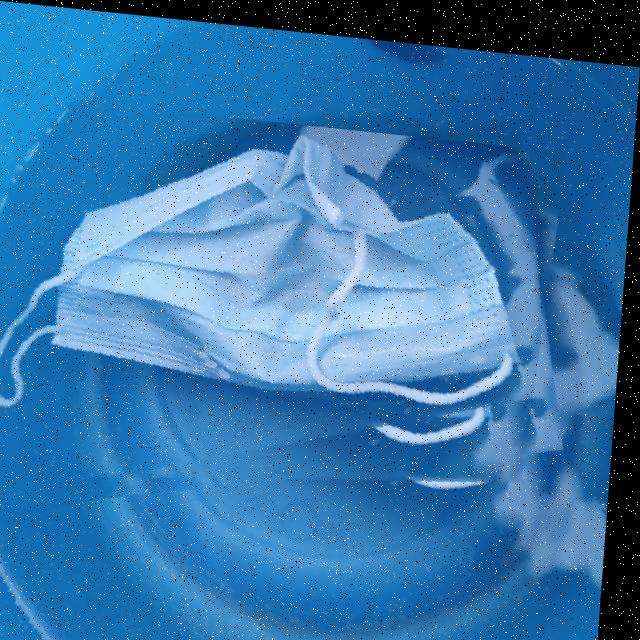litter: (0, 92, 573, 523)
